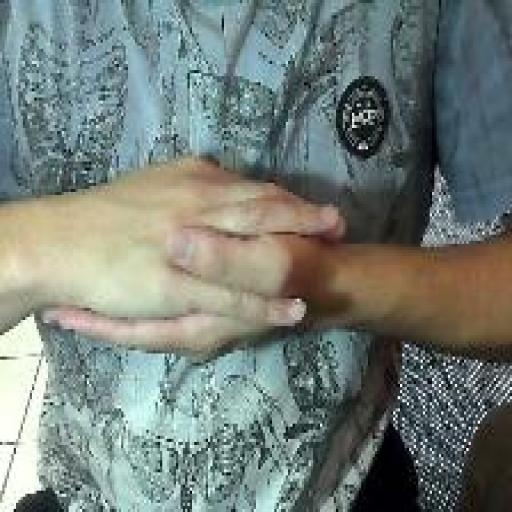Saru -monkey-: (39, 148, 350, 373)
